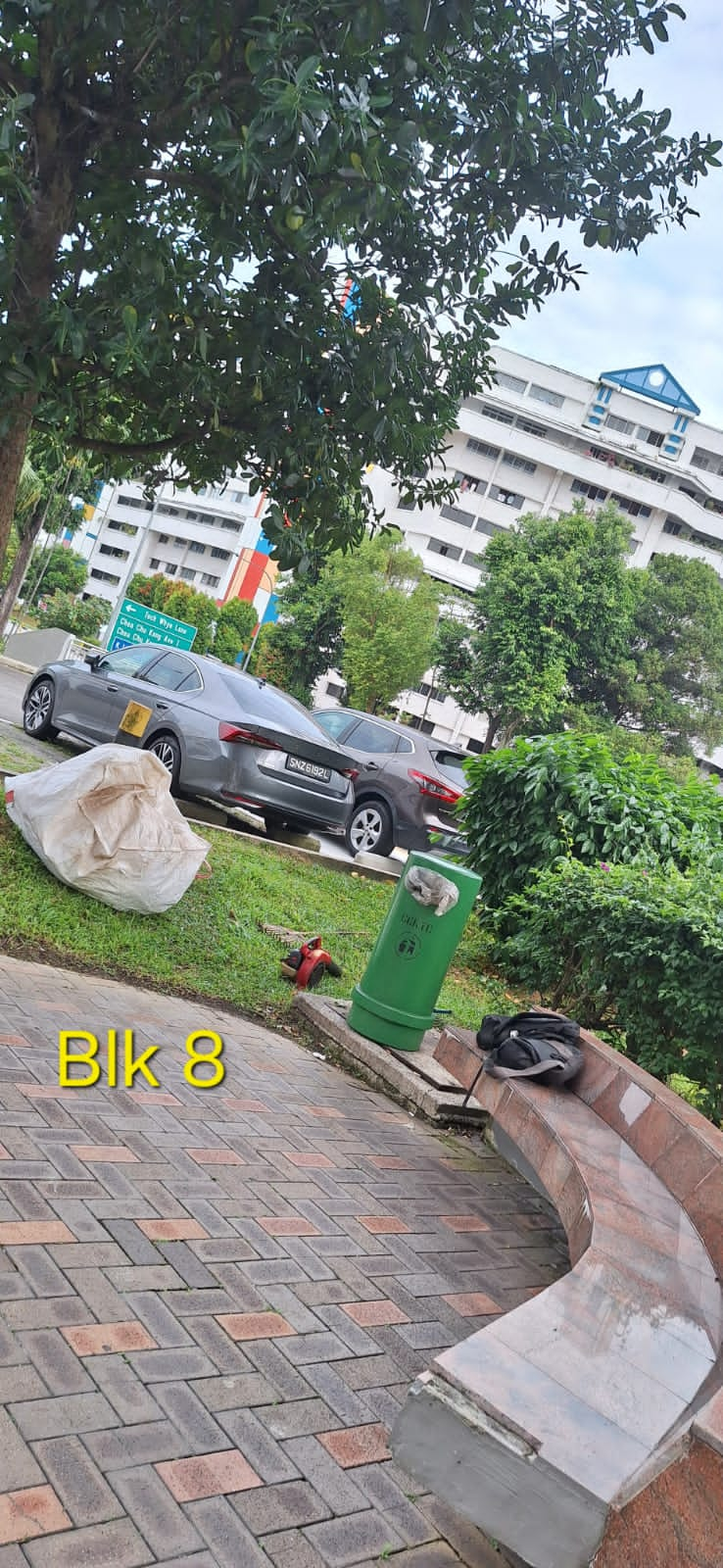bin_empty: (349, 854, 479, 1052)
bulk_waste: (7, 745, 207, 914)
normal_waste: (477, 1012, 582, 1087)
vehicle: (24, 645, 353, 832), (316, 710, 465, 853)
